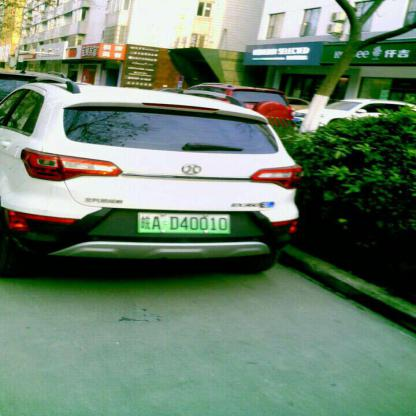lp: (138, 212, 231, 232)
